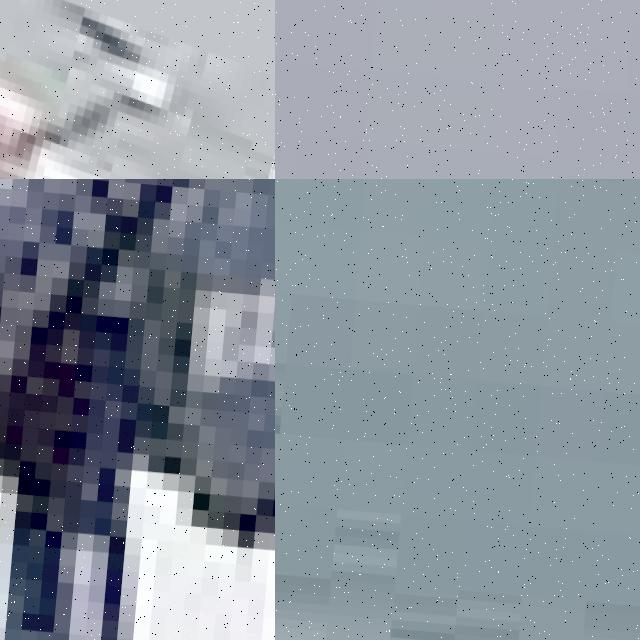drone: (0, 0, 275, 179)
